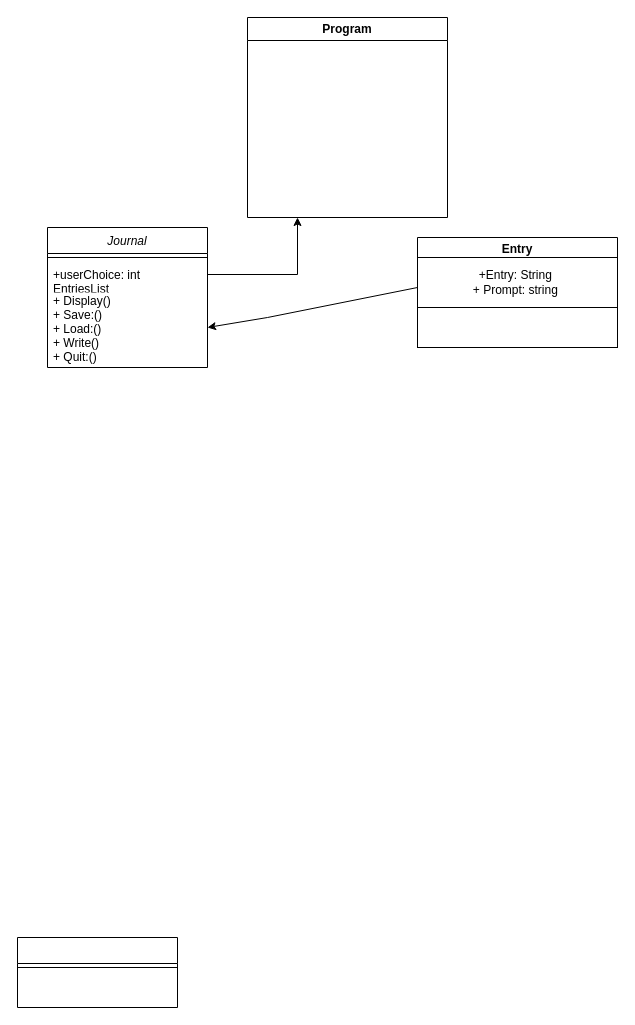
Some shapes in this 635 by 1025 pixel diagram are drawn without their labels. The shapes that lost their labels are listed below. From the top down, each one's box as (x1, y1, x2, y2) in pixels, then its label:
(416, 306, 618, 348): + void Display ()
(16, 936, 178, 1008): Streak
